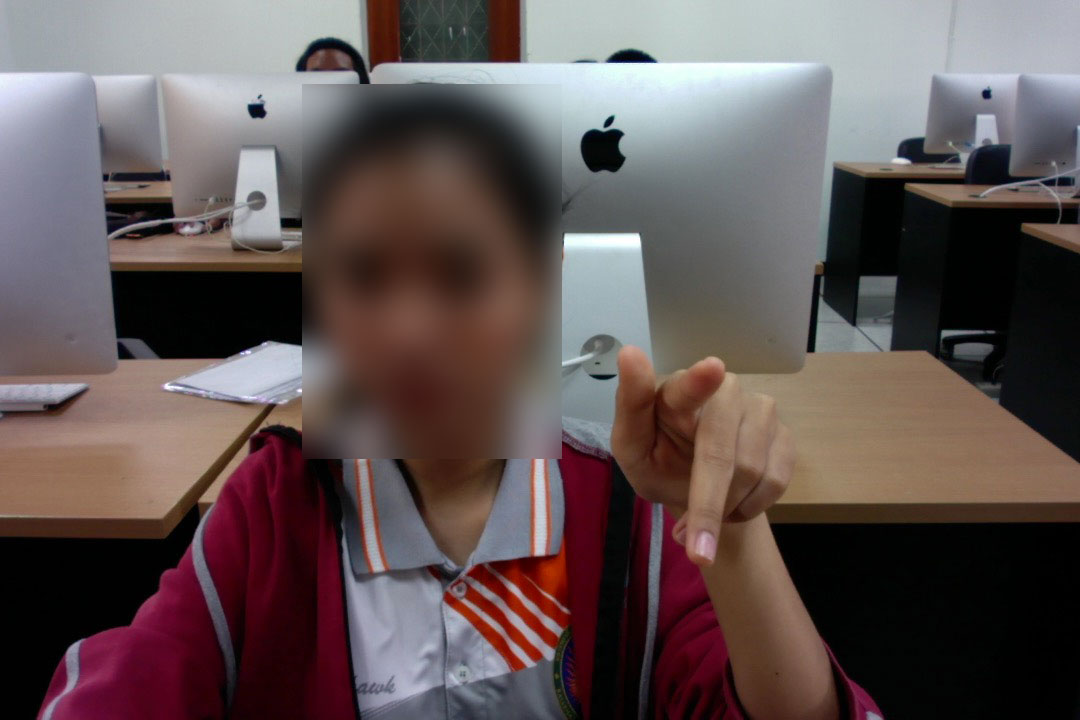por: (605, 336, 800, 570)
